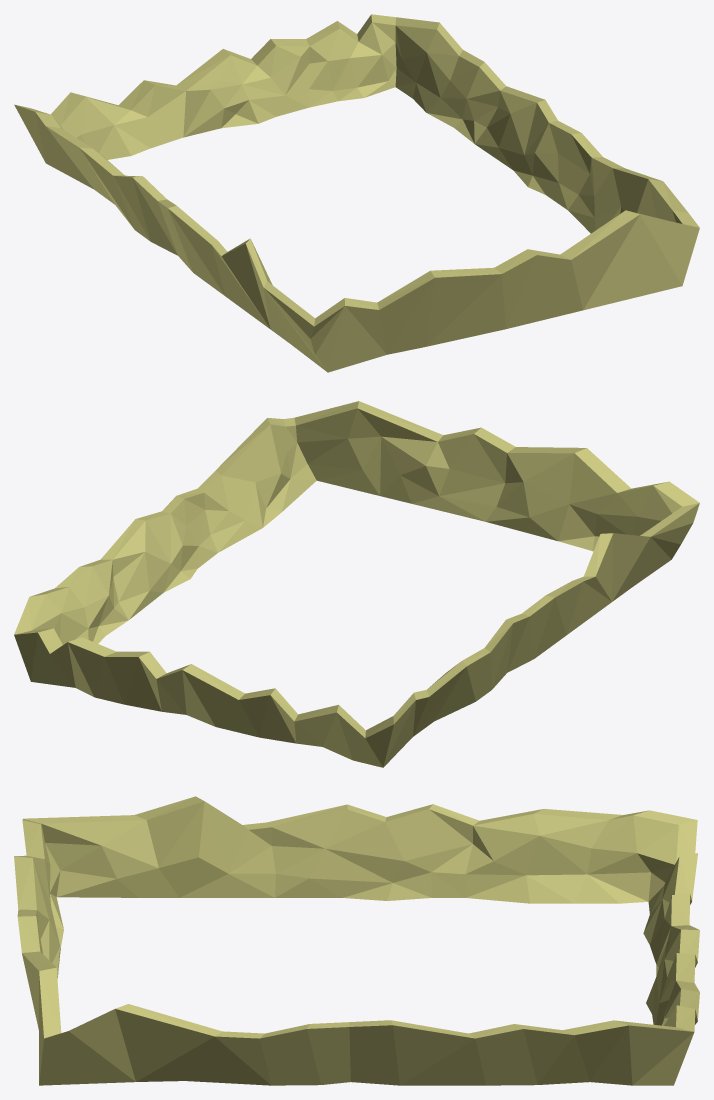
File: Land_Rock_Low_2.fbx
The picture shows the model from 3 angles, top to bottom: view 1: azimuth 30°, elevation 25°; view 2: azimuth 150°, elevation 25°; view 3: azimuth 270°, elevation 25°; orthographic projection. The views are drawn at different scales.
Parts seen in each view (by area): view 1: Land_Rock_Low; view 2: Land_Rock_Low; view 3: Land_Rock_Low.
Boxes of the visible parts, bbox=[...] form: Land_Rock_Low: bbox=[14, 14, 699, 372]; Land_Rock_Low: bbox=[14, 401, 699, 767]; Land_Rock_Low: bbox=[14, 796, 699, 1085].
Bounding box in the file's own units: 94.63 × 18.62 × 127.
